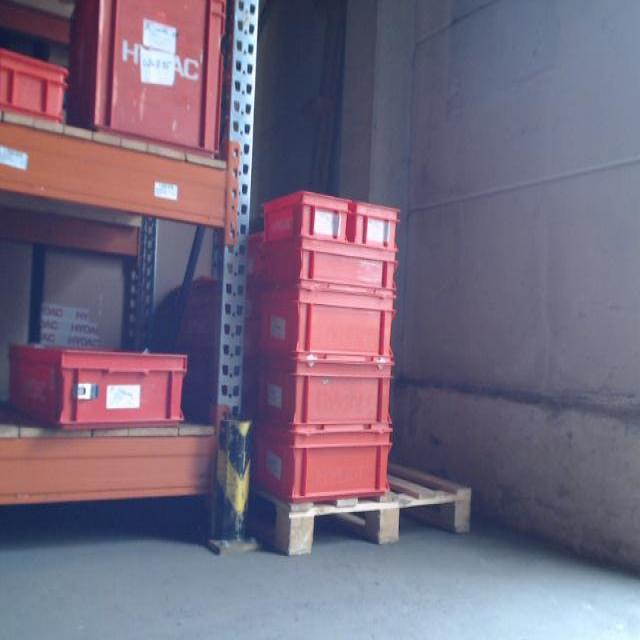pallet: (238, 468, 472, 558)
small_load_carrier: (68, 2, 226, 162), (6, 348, 187, 433), (252, 423, 396, 508), (257, 285, 396, 363), (256, 354, 398, 422), (259, 243, 400, 297), (219, 238, 262, 415), (3, 37, 72, 126), (258, 179, 350, 240), (353, 194, 407, 251)
